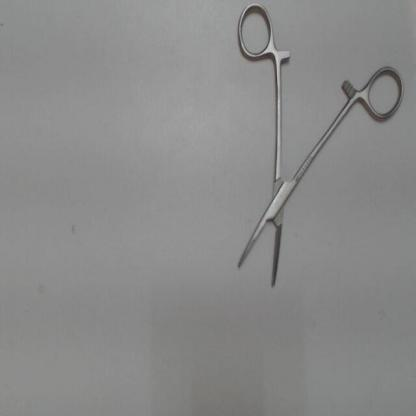Mayo Needle Holder: (225, 0, 412, 300)
